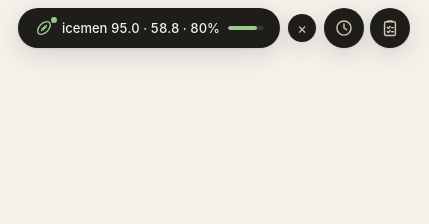
Test: live activity: several at once › open, the arrows move between the activities, with page dots that follow
Step 1. Click the button with class "la-head" → point(149, 28), box [18,8,280,48]
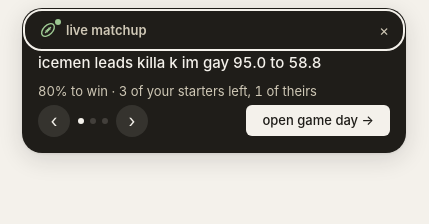
Step 2. Click the button named "next activity" → point(132, 121), box [116,105,148,137]
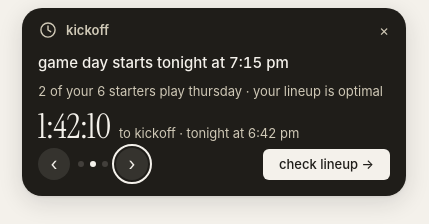
Expected: the button with class "la-head" is expanded, [22,8,406,52]
Expected: the link "check lineup →" is shown, [263,149,390,180]
Step 3. Click the button named "next activity" → point(132, 164), box [116,148,148,180]
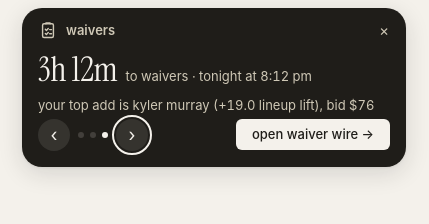
Expected: the link "open waiver wire →" is shown, [236,119,390,150]
it wraps
Step 4. Click the button named "next activity" → point(132, 134), box [116,118,148,150]
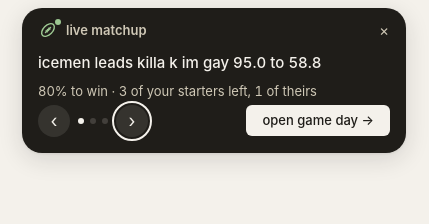
Expected: the link "open game day →" is shown, [246,105,390,136]
Step 5. Click the button named "previous activity" → point(54, 121), box [38,105,70,137]
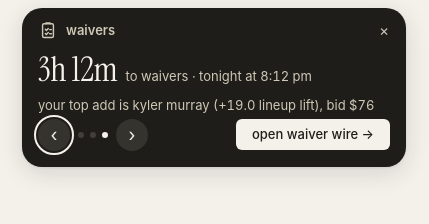
Expected: the link "open waiver wire →" is shown, [236,119,390,150]
